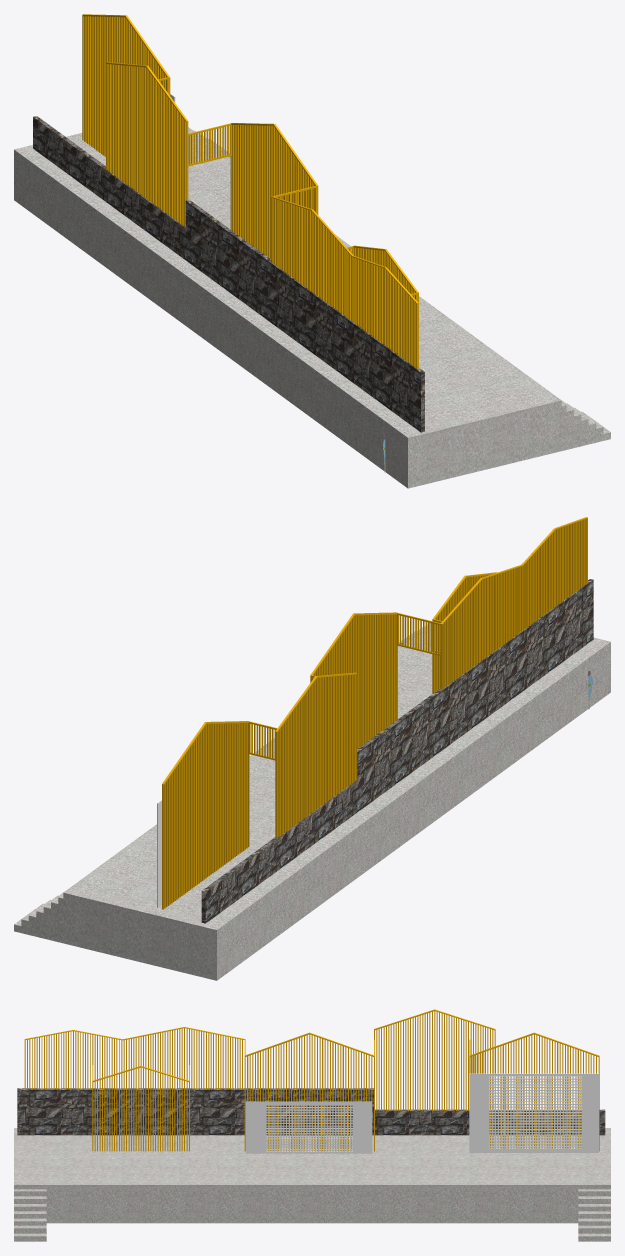
The picture shows the model from 3 angles, top to bottom: view 1: azimuth 30°, elevation 25°; view 2: azimuth 150°, elevation 25°; view 3: azimuth 270°, elevation 25°; orthographic projection. The views are drawn at different scales.
Parts seen in each view (by area): view 1: 3DGeom-23, 3DGeom-21, 3DGeom-85, 3DGeom-25, 3DGeom-47, 3DGeom-105, 3DGeom-125, 3DGeom-27; view 2: 3DGeom-23, 3DGeom-21, 3DGeom-105, 3DGeom-85, 3DGeom-25, 3DGeom-47, 3DGeom-125, 3DGeom-106, 3DGeom-26, 3DGeom-86, 3DGeom-27, 3DGeom-48 (+1 smaller); view 3: 3DGeom-23, 3DGeom-21, 3DGeom-127, 3DGeom-85, 3DGeom-25, 3DGeom-22, 3DGeom-27, 3DGeom-105, 3DGeom-47, 3DGeom-125, 3DGeom-26, 3DGeom-106.
Boxes of the visible parts, left/top/right/bottom form: 3DGeom-23: left=14, top=127, right=610, bottom=488; 3DGeom-21: left=33, top=116, right=424, bottom=432; 3DGeom-85: left=106, top=64, right=188, bottom=226; 3DGeom-25: left=230, top=125, right=318, bottom=258; 3DGeom-47: left=271, top=197, right=352, bottom=321; 3DGeom-105: left=82, top=16, right=170, bottom=156; 3DGeom-125: left=352, top=257, right=418, bottom=368; 3DGeom-27: left=353, top=247, right=418, bottom=302; 3DGeom-23: left=14, top=623, right=610, bottom=980; 3DGeom-21: left=201, top=579, right=593, bottom=923; 3DGeom-105: left=162, top=723, right=249, bottom=909; 3DGeom-85: left=275, top=674, right=357, bottom=838; 3DGeom-25: left=310, top=614, right=397, bottom=748; 3DGeom-47: left=440, top=566, right=522, bottom=689; 3DGeom-125: left=522, top=518, right=587, bottom=629; 3DGeom-106: left=162, top=721, right=249, bottom=881; 3DGeom-26: left=310, top=612, right=397, bottom=733; 3DGeom-86: left=275, top=672, right=357, bottom=812; 3DGeom-27: left=432, top=575, right=488, bottom=693; 3DGeom-48: left=440, top=565, right=522, bottom=663; 3DGeom-23: left=14, top=1128, right=610, bottom=1241; 3DGeom-21: left=17, top=1088, right=605, bottom=1135; 3DGeom-127: left=469, top=1073, right=598, bottom=1152; 3DGeom-85: left=374, top=1011, right=495, bottom=1110; 3DGeom-25: left=244, top=1034, right=374, bottom=1151; 3DGeom-22: left=245, top=1101, right=372, bottom=1153; 3DGeom-27: left=92, top=1067, right=189, bottom=1151; 3DGeom-105: left=469, top=1034, right=599, bottom=1151; 3DGeom-47: left=123, top=1028, right=242, bottom=1089; 3DGeom-125: left=24, top=1031, right=122, bottom=1089; 3DGeom-26: left=244, top=1032, right=374, bottom=1057; 3DGeom-106: left=469, top=1032, right=599, bottom=1057.
Bounding box in the file's own units: 9.5 × 9.48 × 31.37.
21 materials, 2 textured.
